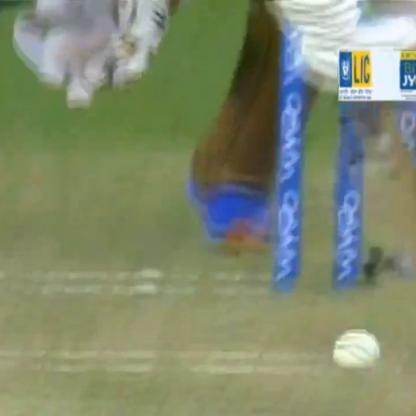ball: (325, 323, 384, 375)
bat: (348, 98, 416, 317)
